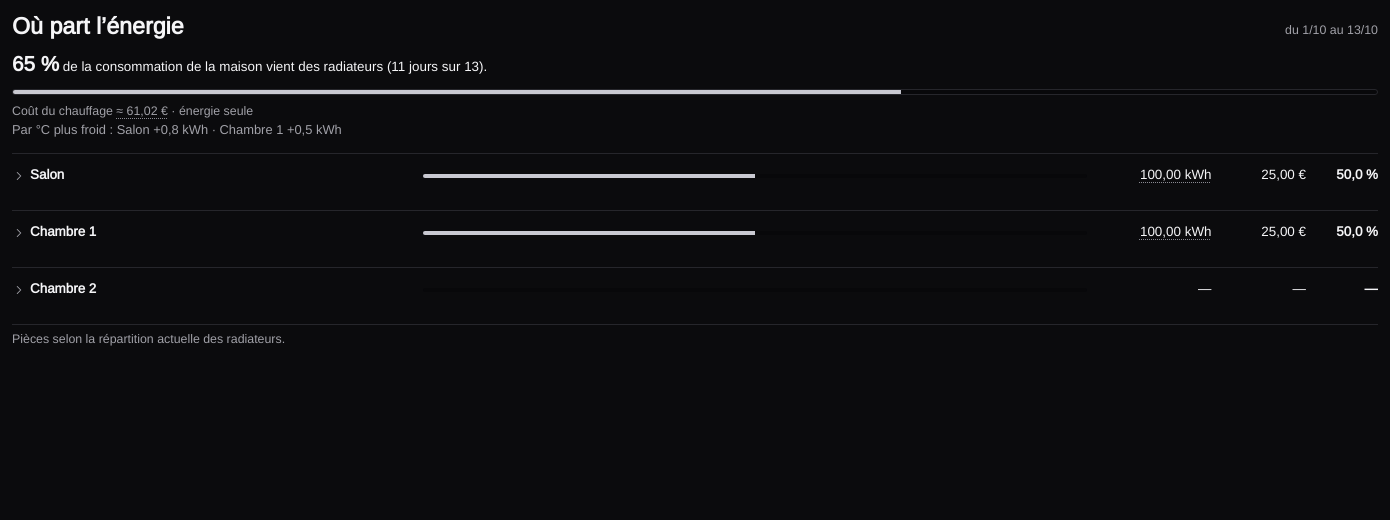
Test: EnergyWhere: each room’s sensitivity to the cold (Plan 15) › one line above the list, ranked; a room’s detail holds its own line
Click the button "Salon" at (47, 175), box 12,154 -> 411,198
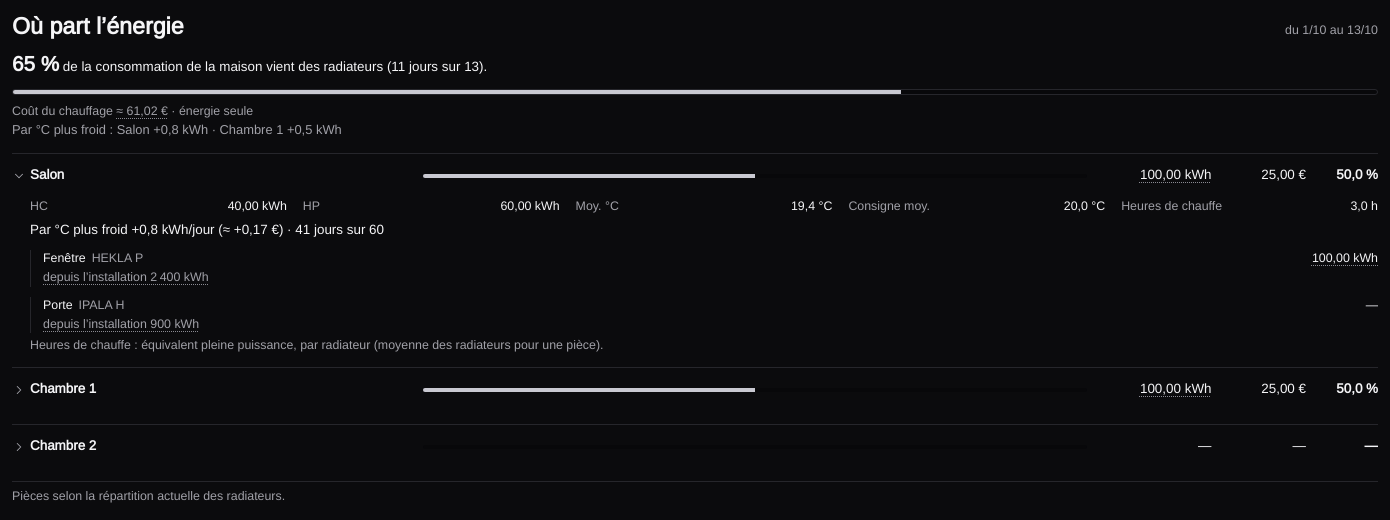
Expected: the text with class "sens-room" reads "Par °C plus froid +0,8 kWh/jour (≈ +0,17 €) · 41 jours sur 60", 30,221 -> 384,238
